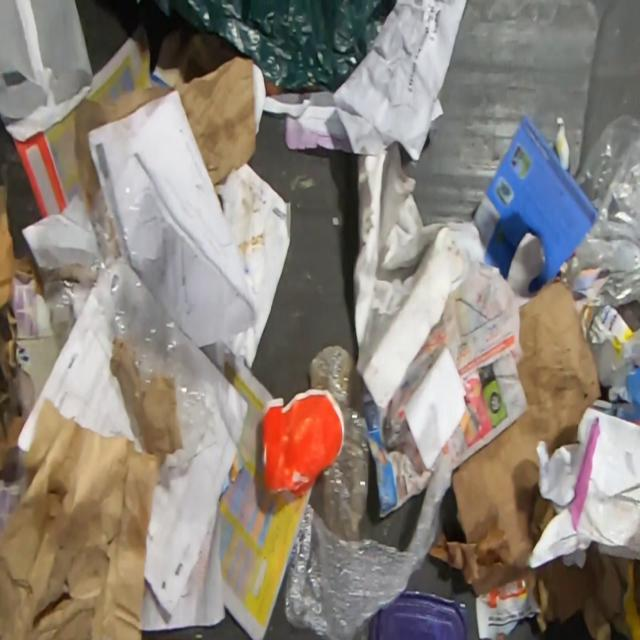cardboard: (451, 273, 603, 597)
rigid_plastic: (307, 342, 371, 542), (257, 389, 346, 500), (368, 587, 469, 639)
soft_plastic: (41, 156, 222, 476), (282, 448, 453, 640), (131, 0, 398, 93), (558, 112, 640, 300)
